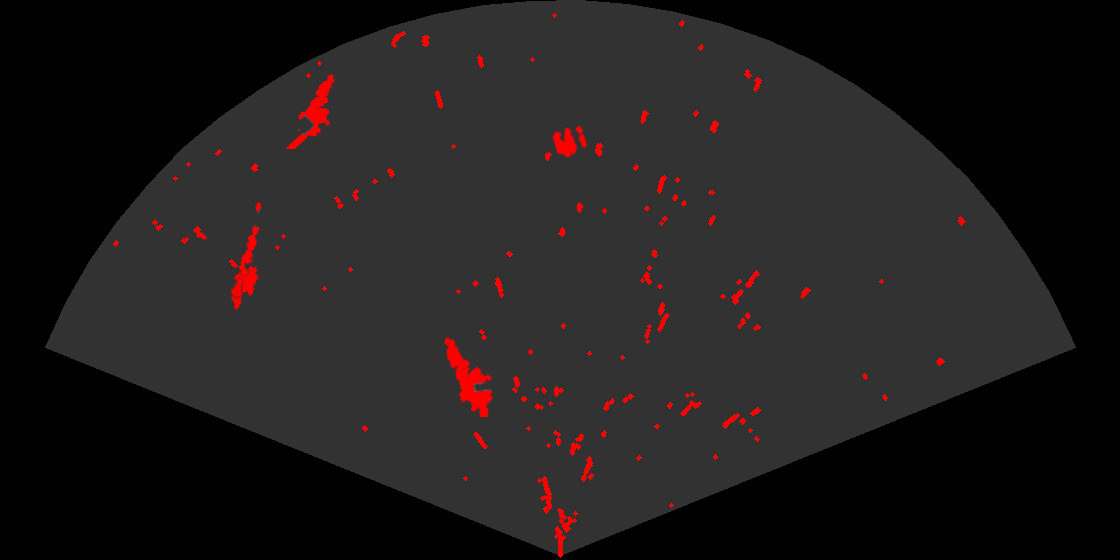AUV: (229, 264, 260, 311)
ball: (551, 124, 589, 159)
chain: (230, 201, 263, 300)
frogman: (443, 335, 495, 417), (284, 73, 336, 149)
